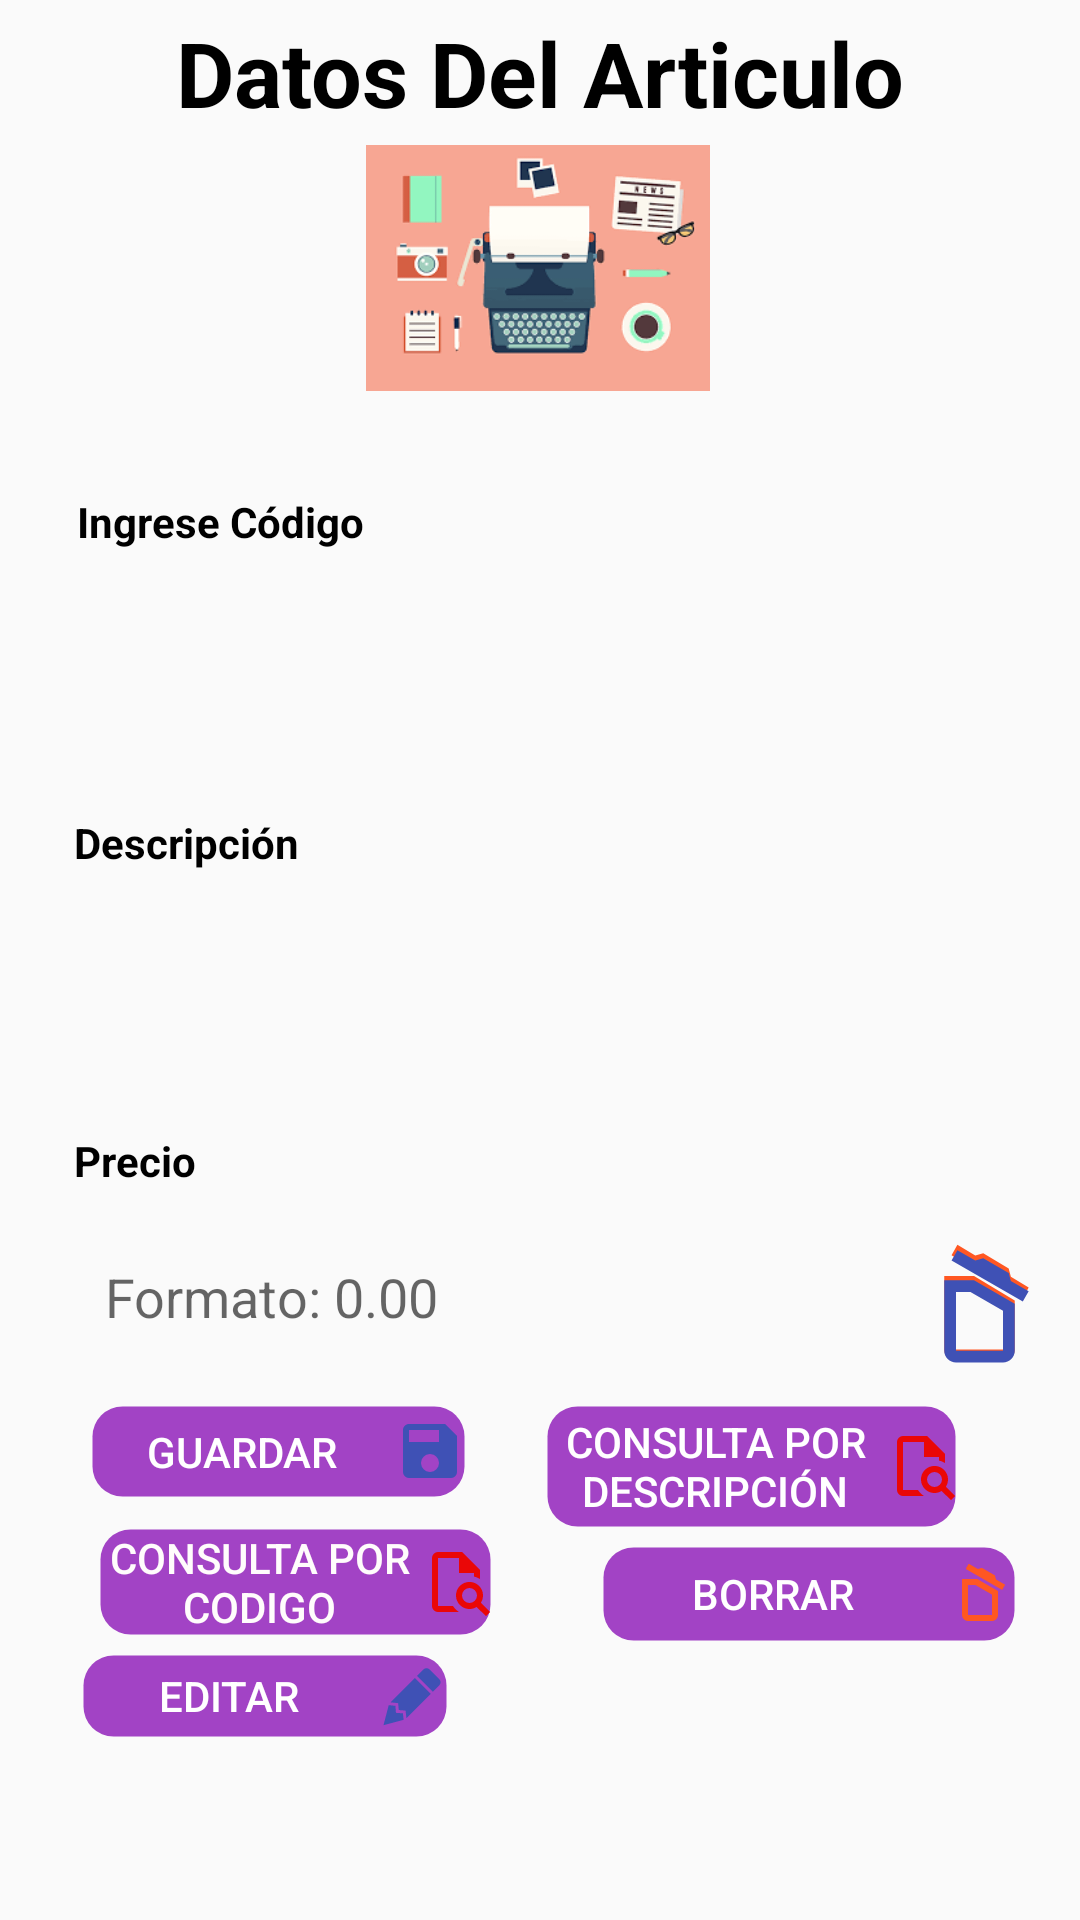

Icons on this 1080 × 1920 Android screen, each with its box as (x1, y1, x2, y2):
ima: (366, 145, 710, 391)
